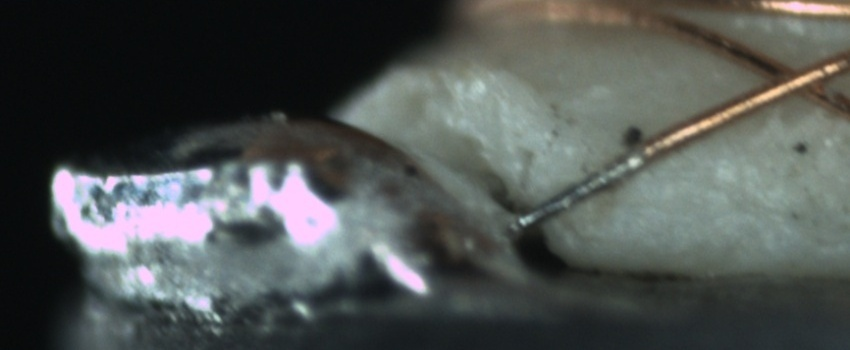CL: (745, 48, 842, 107)
TS: (518, 152, 646, 232)
